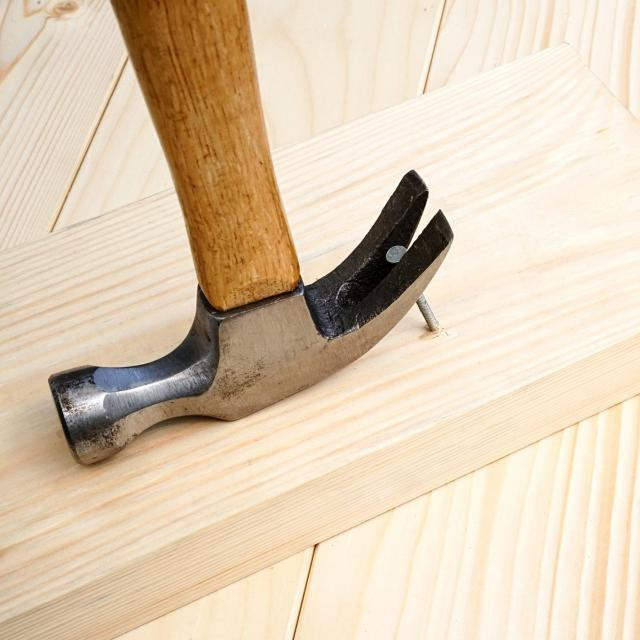hammer: (43, 0, 460, 469)
